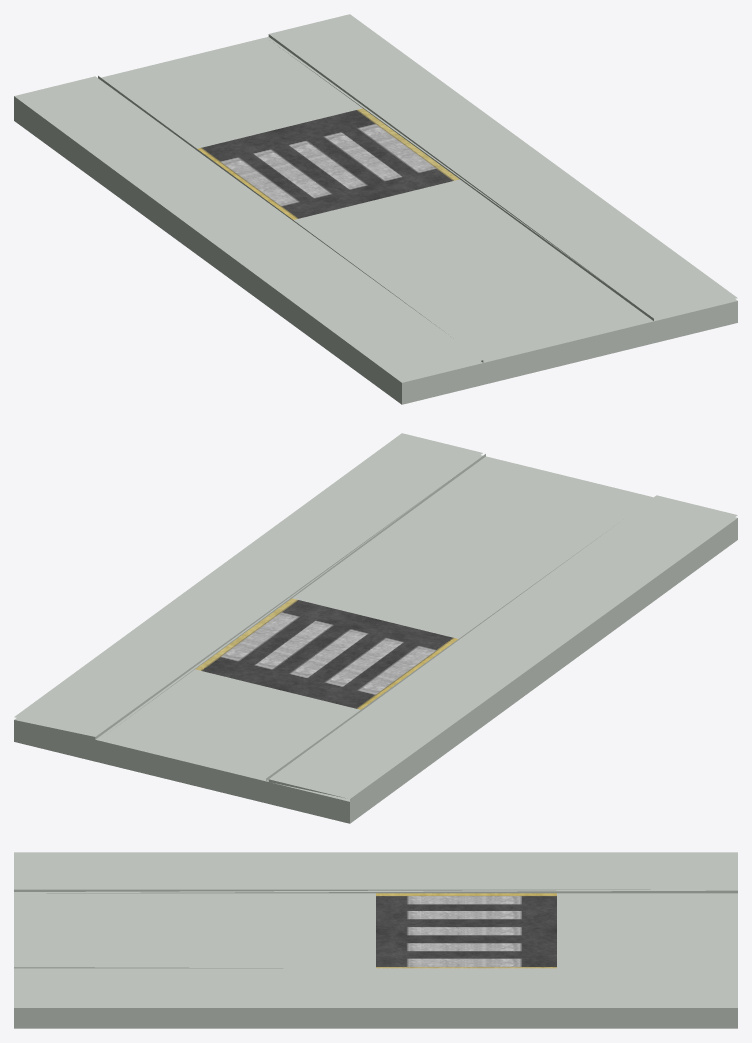
The model's file is SingleZebra_3.fbx.
The picture shows the model from 3 angles, top to bottom: view 1: azimuth 30°, elevation 25°; view 2: azimuth 150°, elevation 25°; view 3: azimuth 270°, elevation 25°; orthographic projection. The views are drawn at different scales.
Visible parts, largest first — view 1: materialA150, materialF150, materialE150, materialB150, materialD150; view 2: materialA150, materialF150, materialE150, materialB150, materialD150; view 3: materialA150, materialF150, materialE150, materialD150.
Part boxes in pixels (x1=…): materialA150: x1=14, y1=14, x2=737, y2=404; materialF150: x1=101, y1=37, x2=653, y2=362; materialE150: x1=197, y1=108, x2=459, y2=219; materialB150: x1=402, y1=301, x2=737, y2=404; materialD150: x1=98, y1=47, x2=653, y2=362; materialA150: x1=14, y1=433, x2=737, y2=823; materialF150: x1=98, y1=456, x2=653, y2=781; materialE150: x1=195, y1=598, x2=457, y2=709; materialB150: x1=14, y1=720, x2=349, y2=823; materialD150: x1=116, y1=454, x2=613, y2=780; materialA150: x1=14, y1=852, x2=737, y2=1028; materialF150: x1=14, y1=893, x2=737, y2=968; materialE150: x1=376, y1=893, x2=556, y2=968; materialD150: x1=14, y1=889, x2=737, y2=968.
Bounding box in the file's own units: 25.6 × 1.8 × 51.2.
